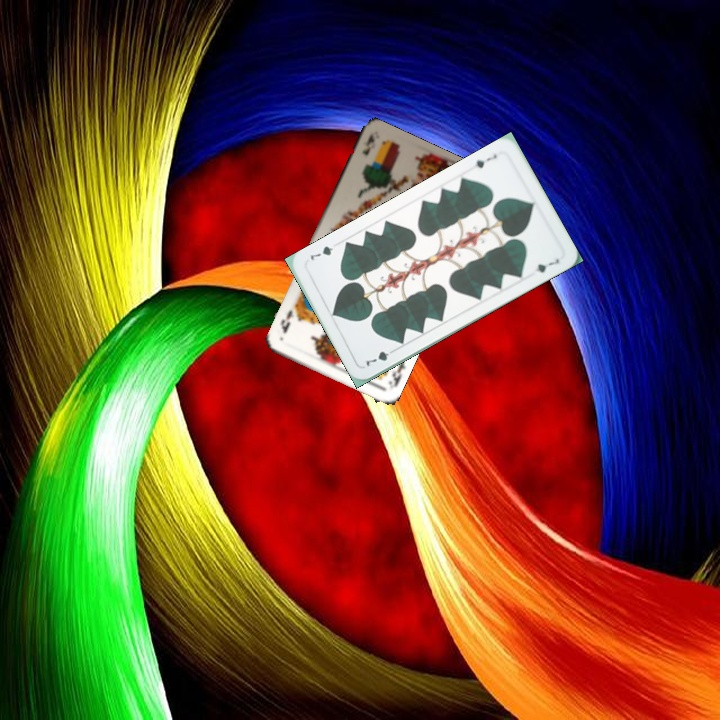EK: (384, 357, 408, 392), (358, 132, 377, 158)
G7: (362, 344, 399, 369), (471, 150, 499, 171)
